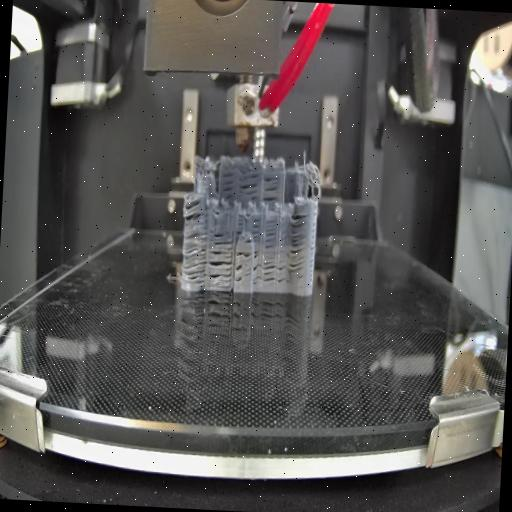cracks: (182, 194, 210, 286), (208, 226, 234, 288), (288, 208, 310, 274), (262, 256, 288, 286), (237, 170, 260, 202), (262, 170, 281, 202), (262, 212, 278, 249), (252, 249, 264, 288), (221, 170, 235, 198), (250, 218, 262, 238), (236, 213, 246, 236), (234, 263, 243, 283), (238, 248, 252, 258), (244, 236, 252, 243)
